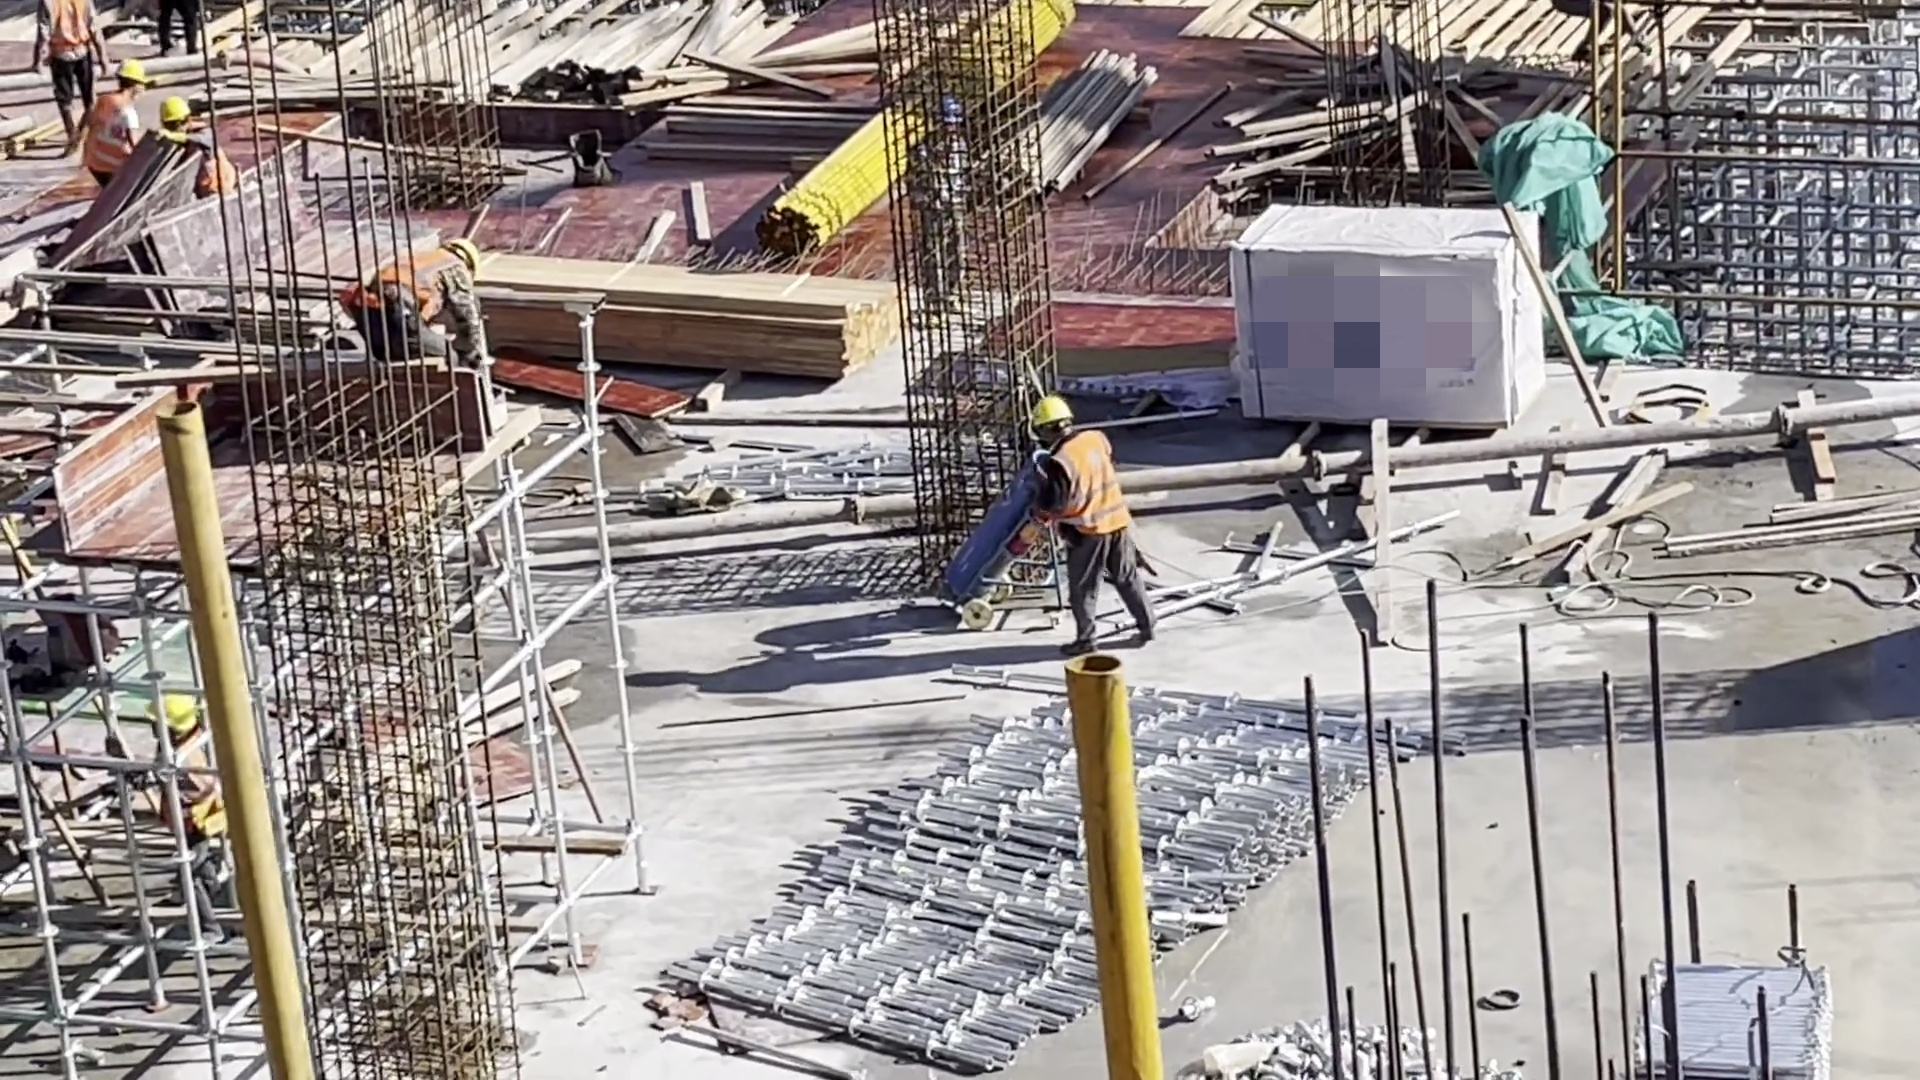helmet: (154, 698, 202, 738), (1032, 393, 1070, 430), (451, 231, 480, 266), (159, 95, 188, 121), (117, 60, 148, 82)
person: (1020, 394, 1163, 649), (352, 227, 507, 383), (151, 687, 248, 923), (32, 1, 100, 146), (89, 64, 154, 187), (164, 97, 233, 202)
scaffold: (647, 668, 1454, 1078), (1637, 952, 1833, 1078)
vest: (1040, 430, 1131, 550), (357, 247, 462, 327), (165, 746, 225, 849), (184, 124, 236, 195), (91, 94, 140, 168), (37, 2, 98, 50)
wood: (470, 257, 903, 379)
